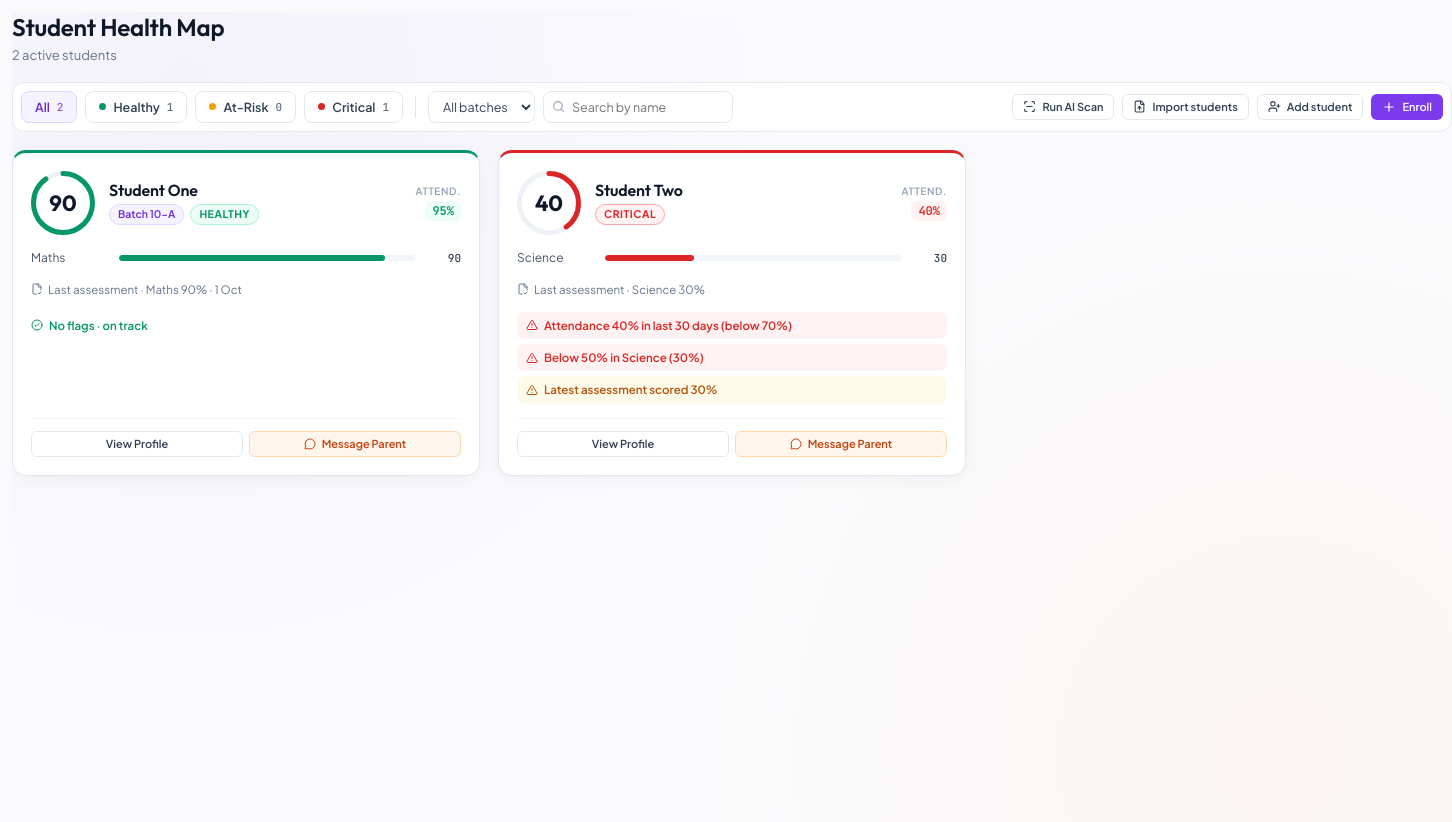
StudentHealthView › shows scan error toast
Check: the heading "Student One" is shown, box [109,180,198,200]
Click the button "Run AI Scan": {"x": 1063, "y": 106} [1012,94,1114,120]
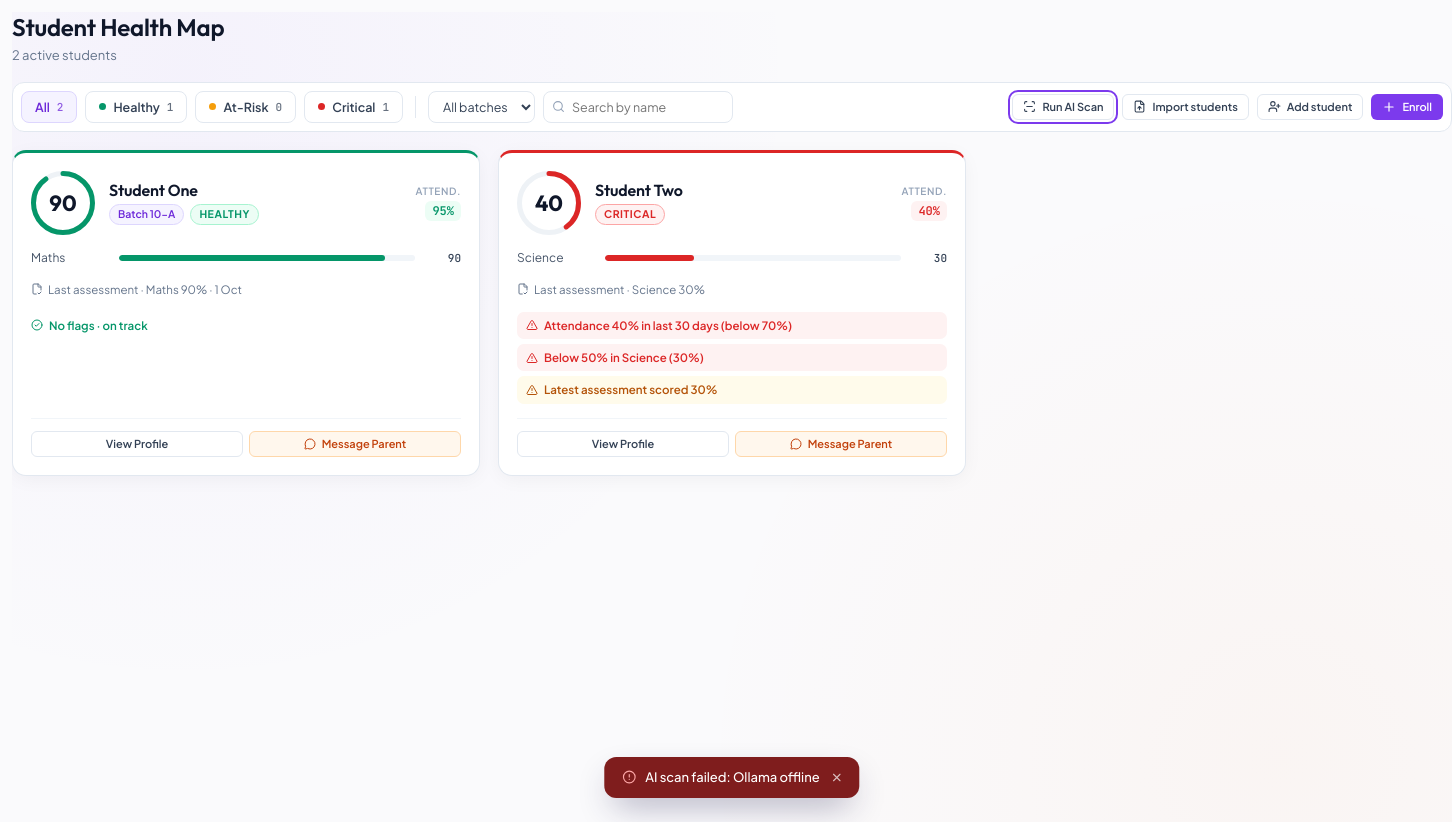
Check: the text "AI scan failed: Ollama offline" is shown, box [604,756,860,798]
